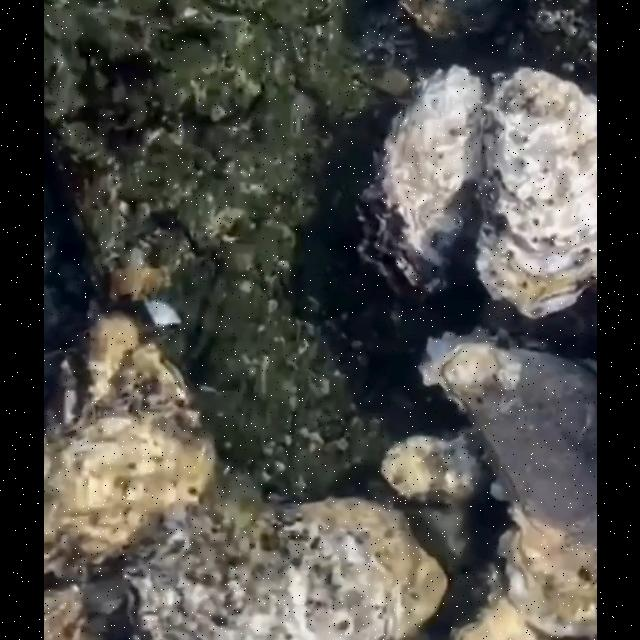Oyster-Closed: (43, 308, 227, 640), (418, 324, 596, 640), (120, 492, 450, 640), (474, 65, 596, 322), (378, 426, 484, 499)
Oyster-Open: (354, 61, 484, 295)
